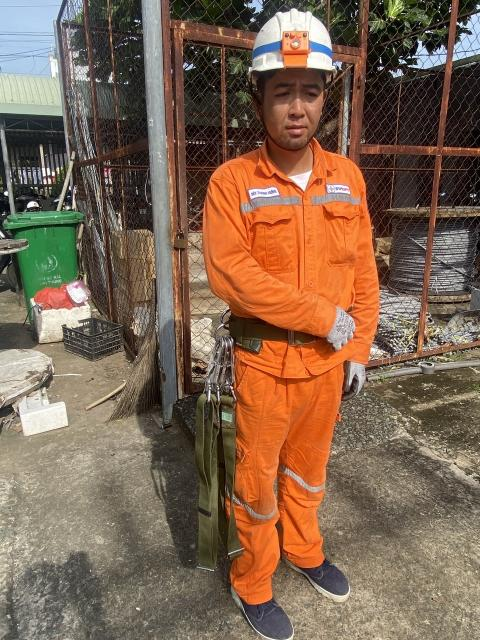gloves: (322, 295, 362, 352), (338, 357, 377, 401)
helmet: (235, 5, 355, 88)
shoes: (286, 531, 368, 611), (218, 572, 287, 640)
